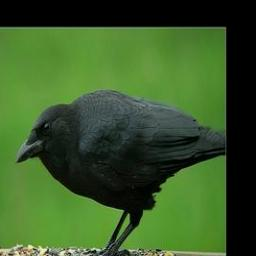Crow: (14, 90, 226, 256)
